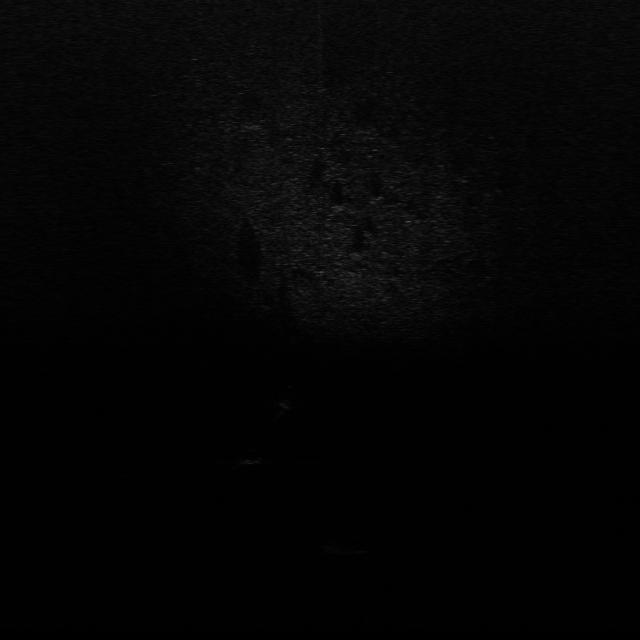ball: (234, 445, 266, 468)
circle cage: (316, 531, 382, 557)
human body: (273, 381, 301, 421)
